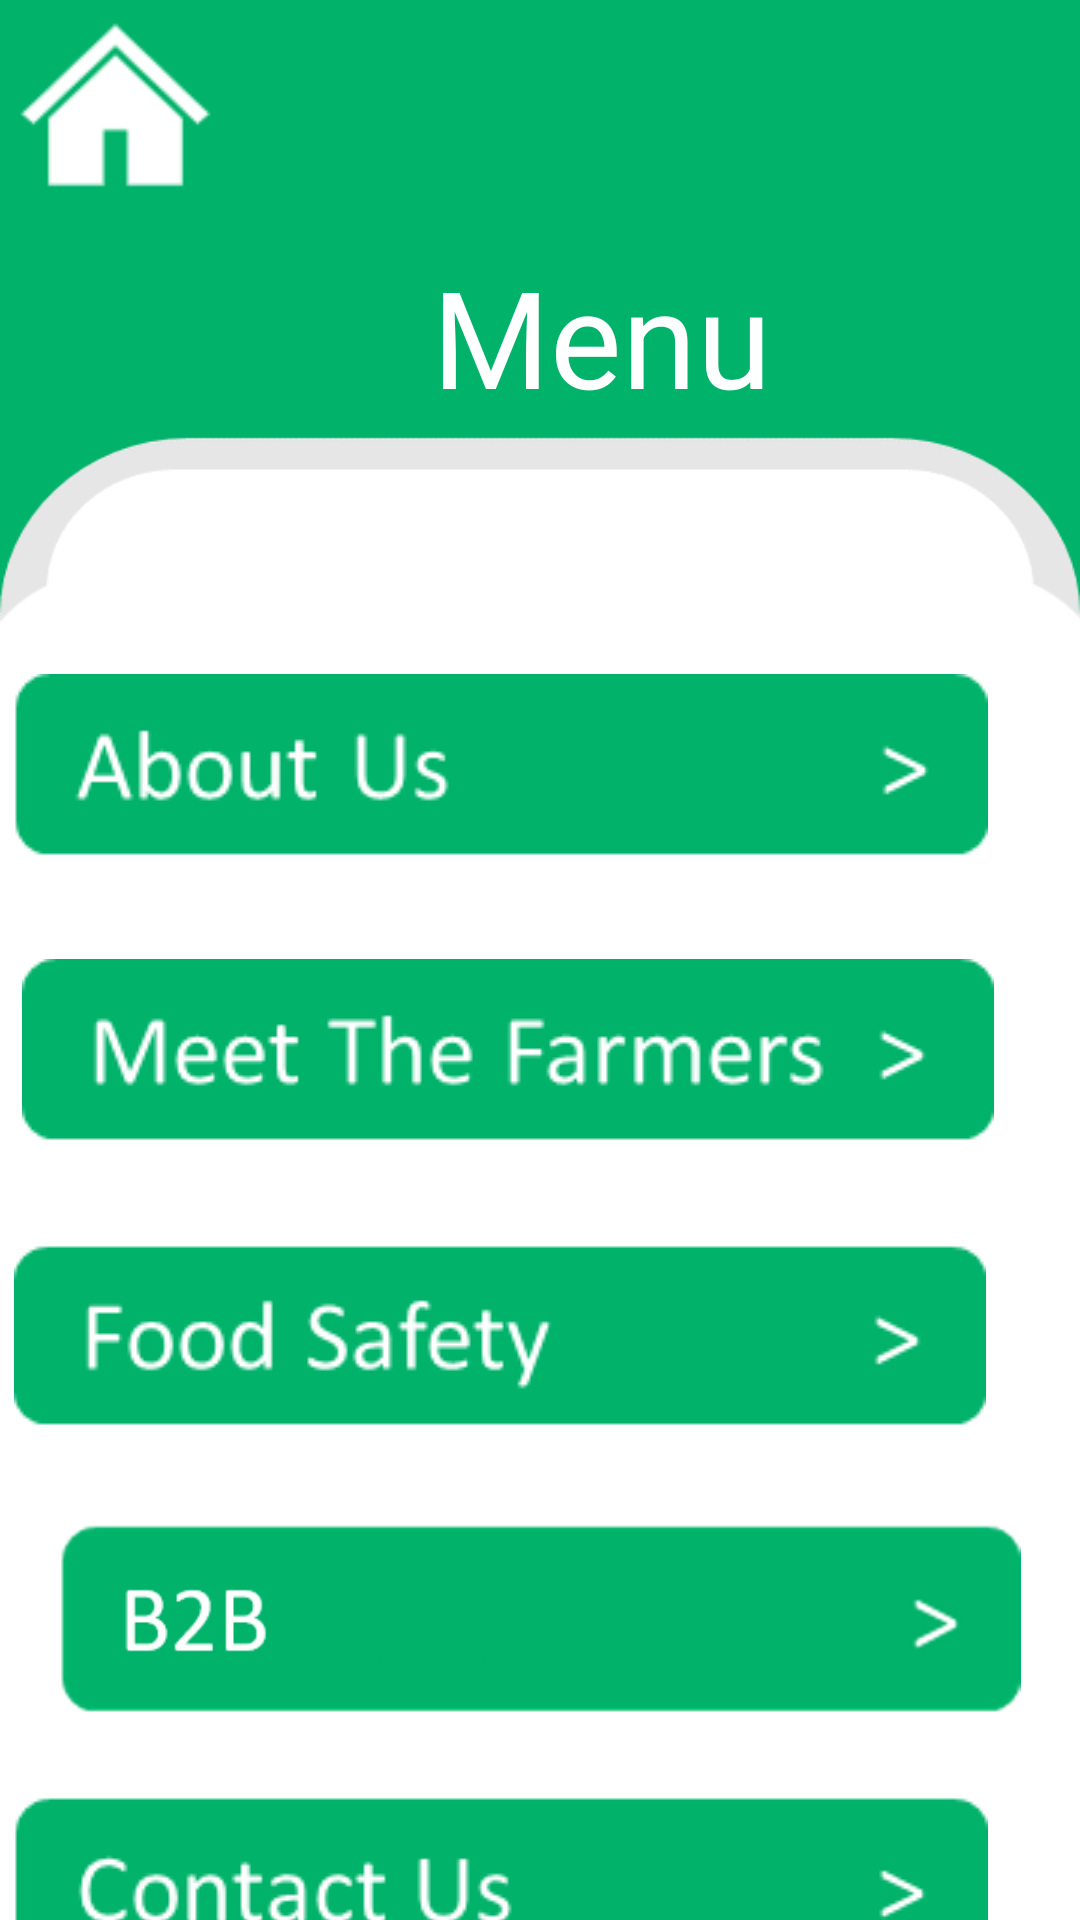

Screen size 1080 × 1920. Icon name, then its center in pixels as (x=x, y=y):
btnhome: (x=115, y=105)
